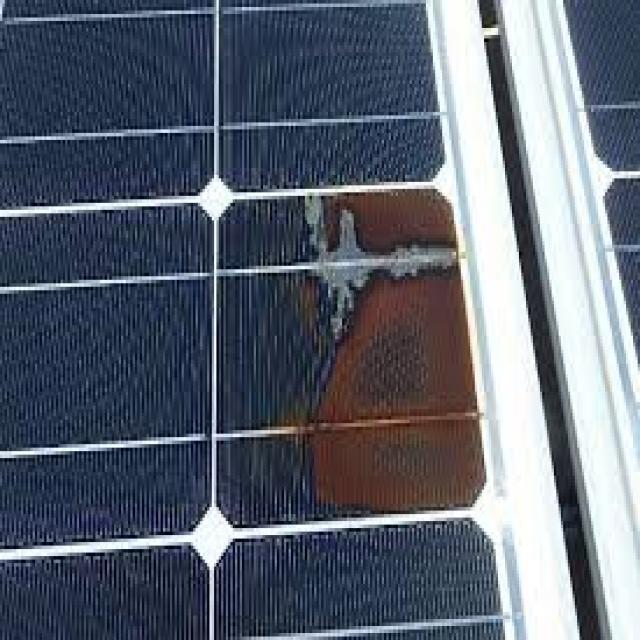faulty: (215, 192, 502, 519)
